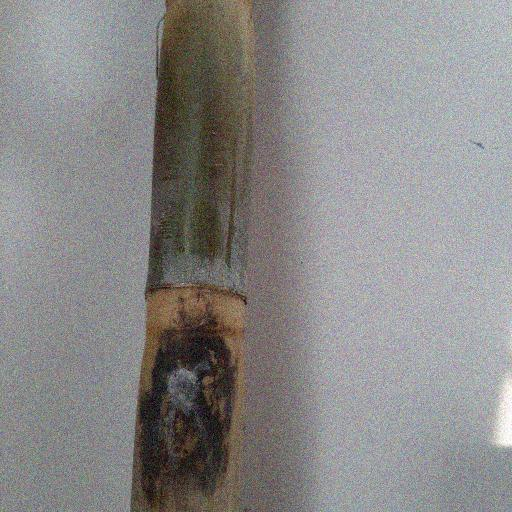Bud: (178, 293, 210, 326)
